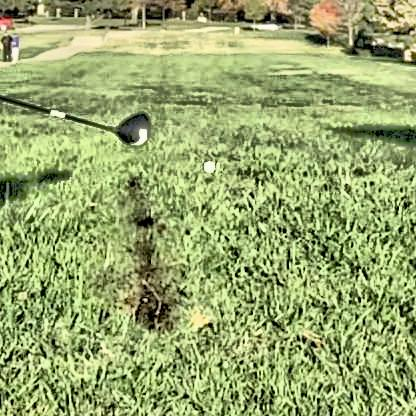golfball: (200, 156, 214, 171)
